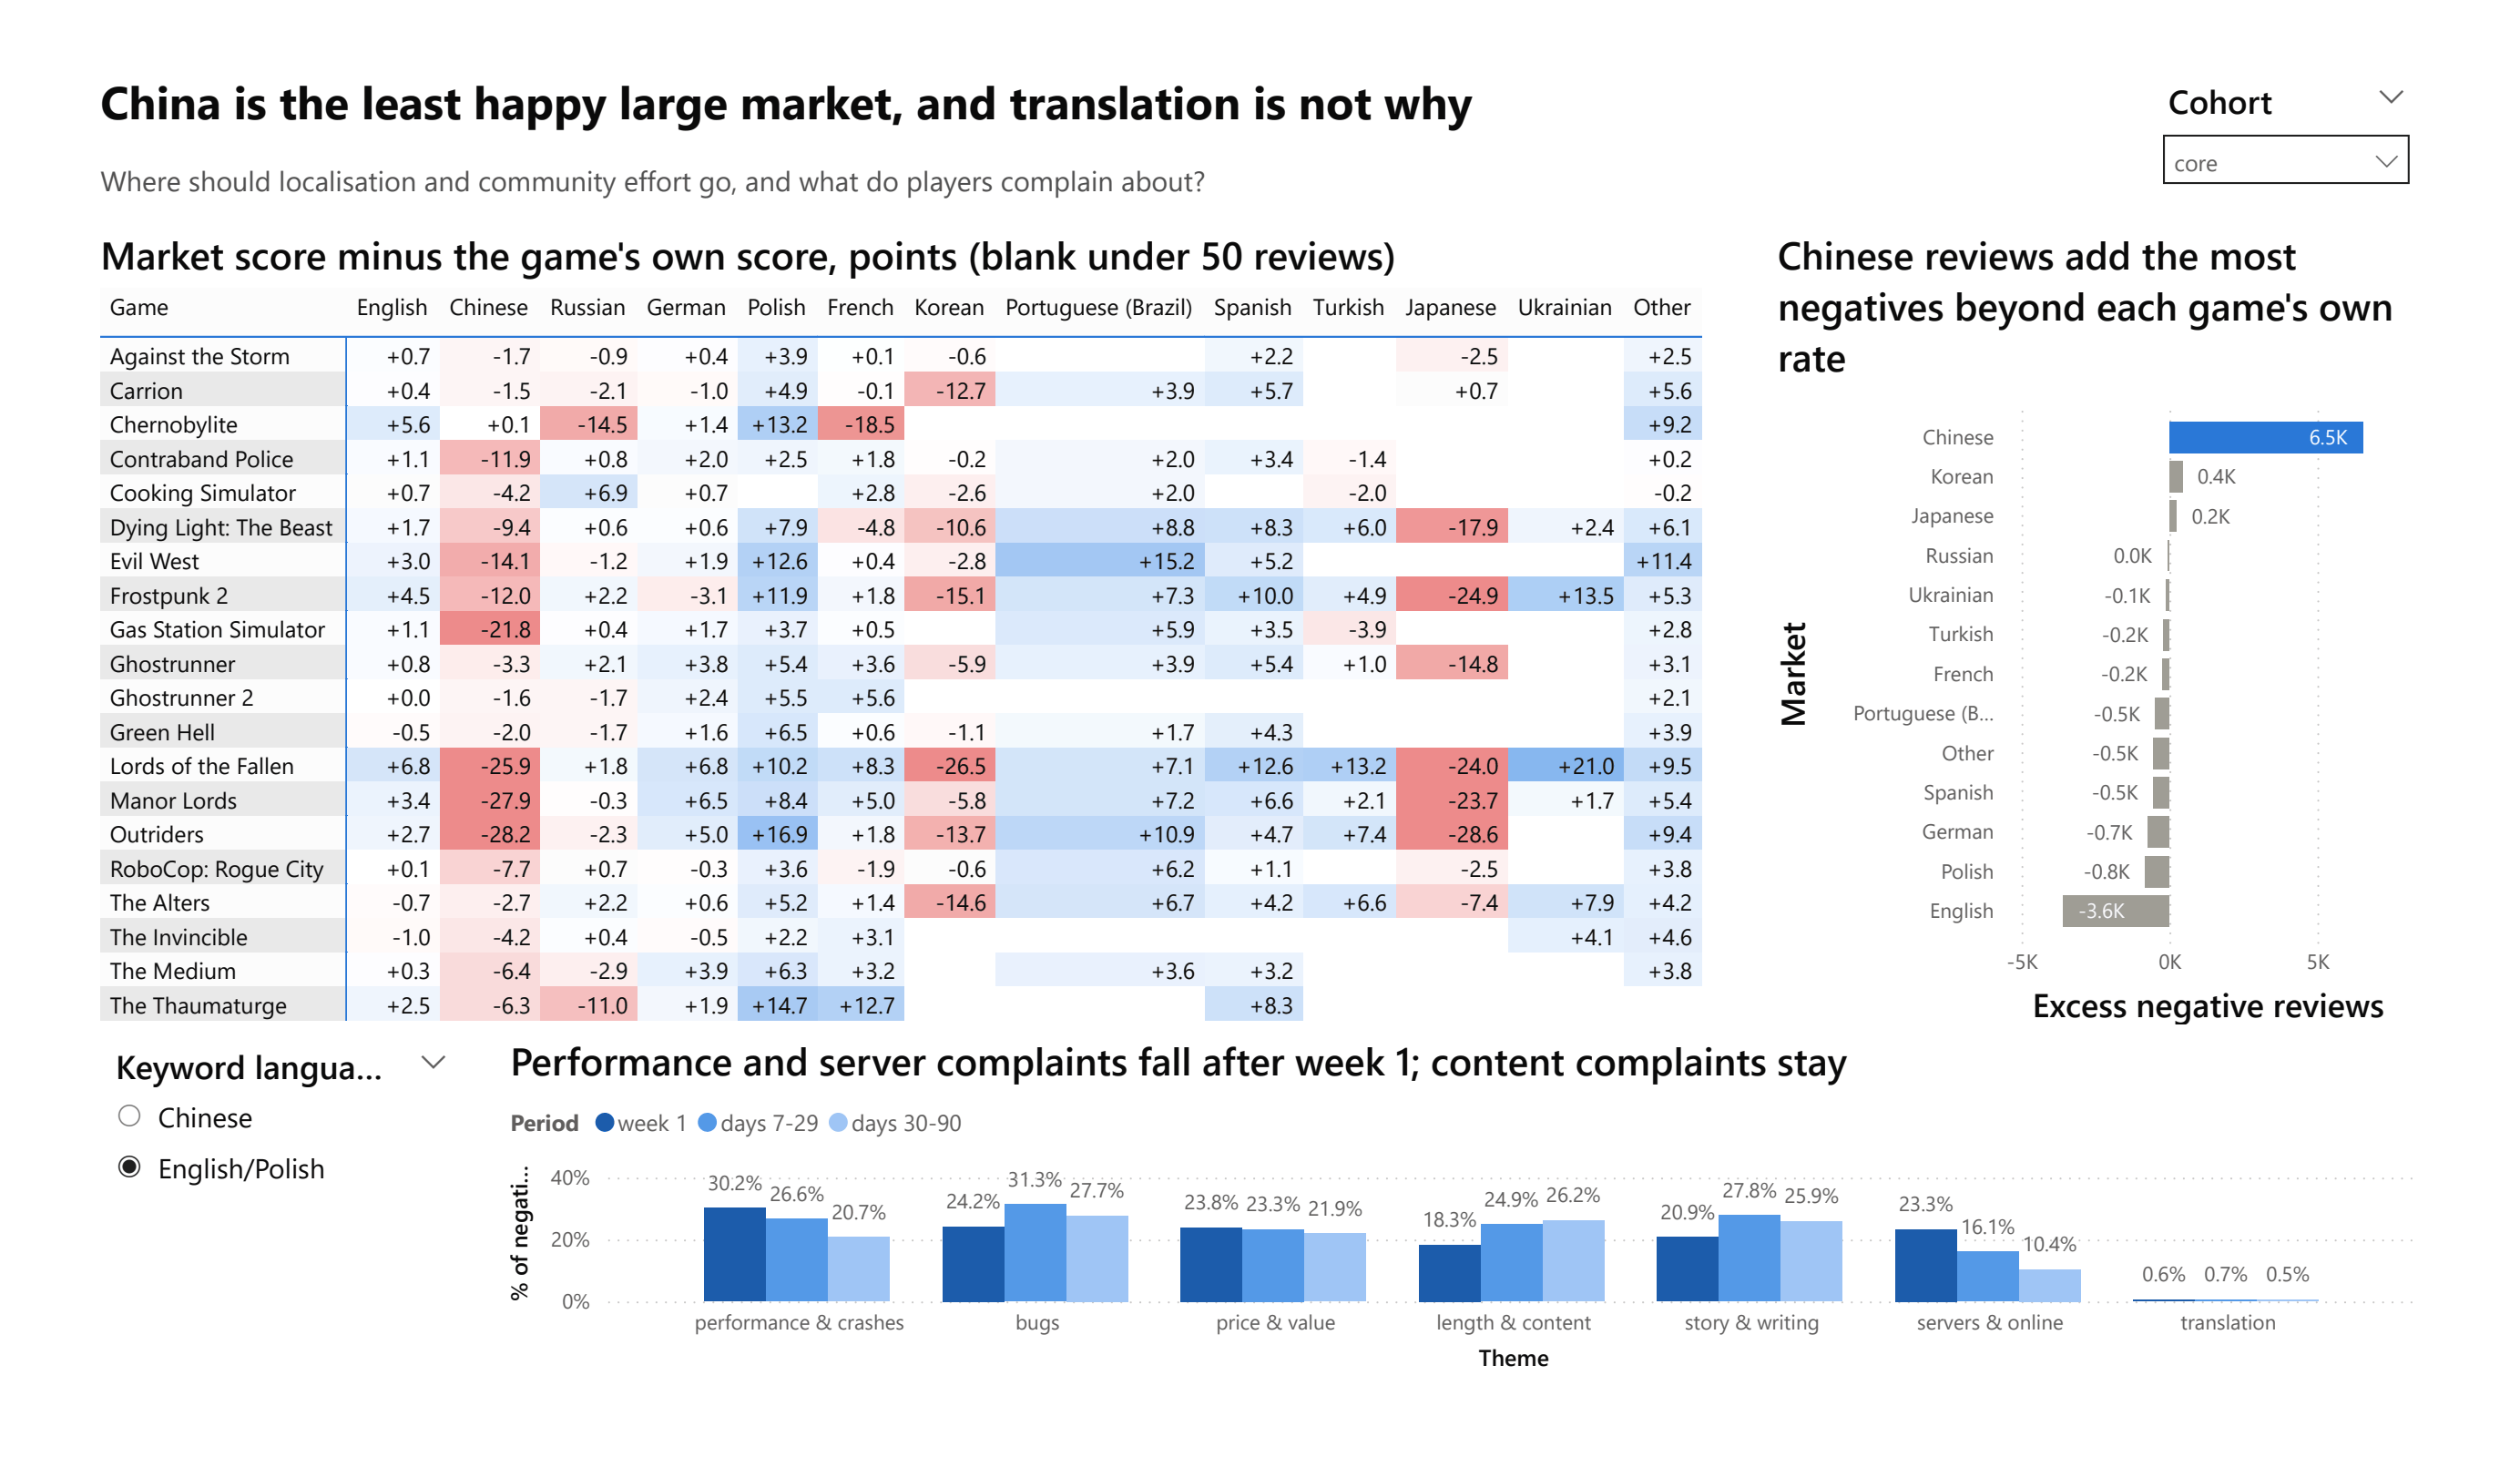

The page's visual inventory and layout, read from the dashboard file:
{"tool":"powerbi","page":{"name":"Markets & complaints","canvas":[1280,720],"ordinal":2},"visuals":[{"type":"textbox","box":[24,8,900,52],"z":1000},{"type":"textbox","box":[24,56,900,34],"z":2000},{"type":"slicer","fields":{"Values":["dim_game.cohort"]},"box":[1106,12,150,76],"z":3000},{"type":"pivotTable","title":"Market score minus the game''s own score, points (blank under 50 reviews)","fields":{"Columns":["dim_language.market"],"Rows":["dim_game.game"],"Values":["_Measures.Market Gap (pts, 50+ reviews)"]},"box":[23.6,96.1,865.1,424.4],"z":4000},{"type":"clusteredBarChart","title":"Chinese reviews add the most negatives beyond each game''s own rate","fields":{"Category":["dim_language.market"],"Y":["_Measures.Excess Negatives"]},"box":[907.7,96.1,348.2,424.4],"z":5000},{"type":"slicer","fields":{"Values":["dim_language.text_group"]},"box":[23.6,520.5,200.4,183.2],"z":6000},{"type":"clusteredColumnChart","title":"Performance and server complaints fall after week 1; content complaints stay","fields":{"Category":["dim_theme.theme"],"Series":["dim_day.period"],"Y":["_Measures.Theme Share of Negatives"]},"box":[240.3,520.5,1015.6,183.2],"z":7000}]}

Visuals, with their boxes on the page's 1280x720 design canvas (x1, y1, x2, y2). These are canvas units, not pixel positions in the 2520x1457 screenshot, which may show the page scaled, cropped or inside an application window:
textbox: bbox=(24, 8, 924, 60)
textbox: bbox=(24, 56, 924, 90)
slicer - dim_game.cohort: bbox=(1106, 12, 1256, 88)
"Market score minus the game''s own score, points (blank under 50 reviews)" pivotTable: bbox=(24, 96, 889, 520)
"Chinese reviews add the most negatives beyond each game''s own rate" clusteredBarChart: bbox=(908, 96, 1256, 520)
slicer - dim_language.text_group: bbox=(24, 520, 224, 704)
"Performance and server complaints fall after week 1; content complaints stay" clusteredColumnChart: bbox=(240, 520, 1256, 704)
